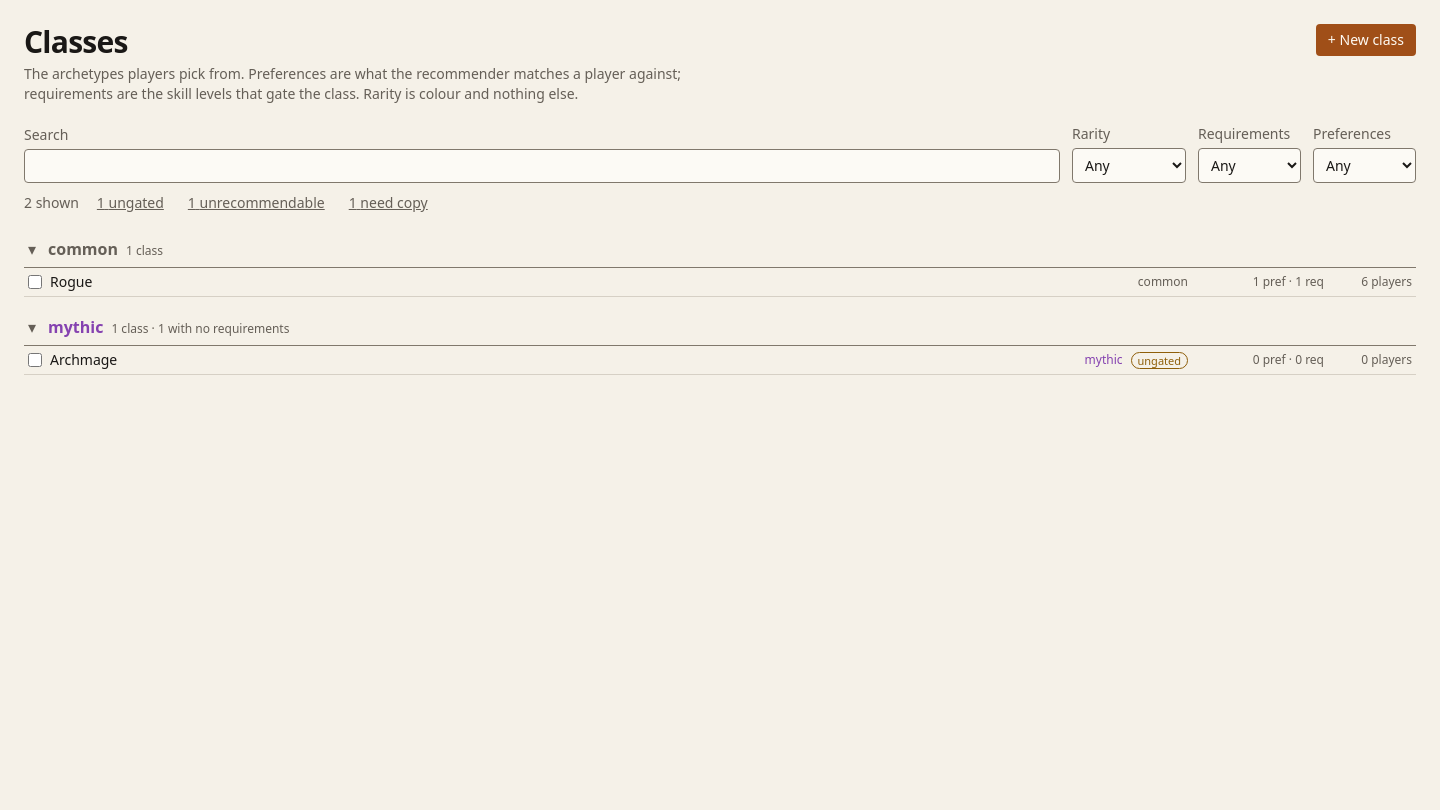
AdminClassesPage › refuses to delete a class players are wearing
This screenshot has width=1440, height=810.
Click the button "Rogue": x=71, y=282 [50,272,1130,292]
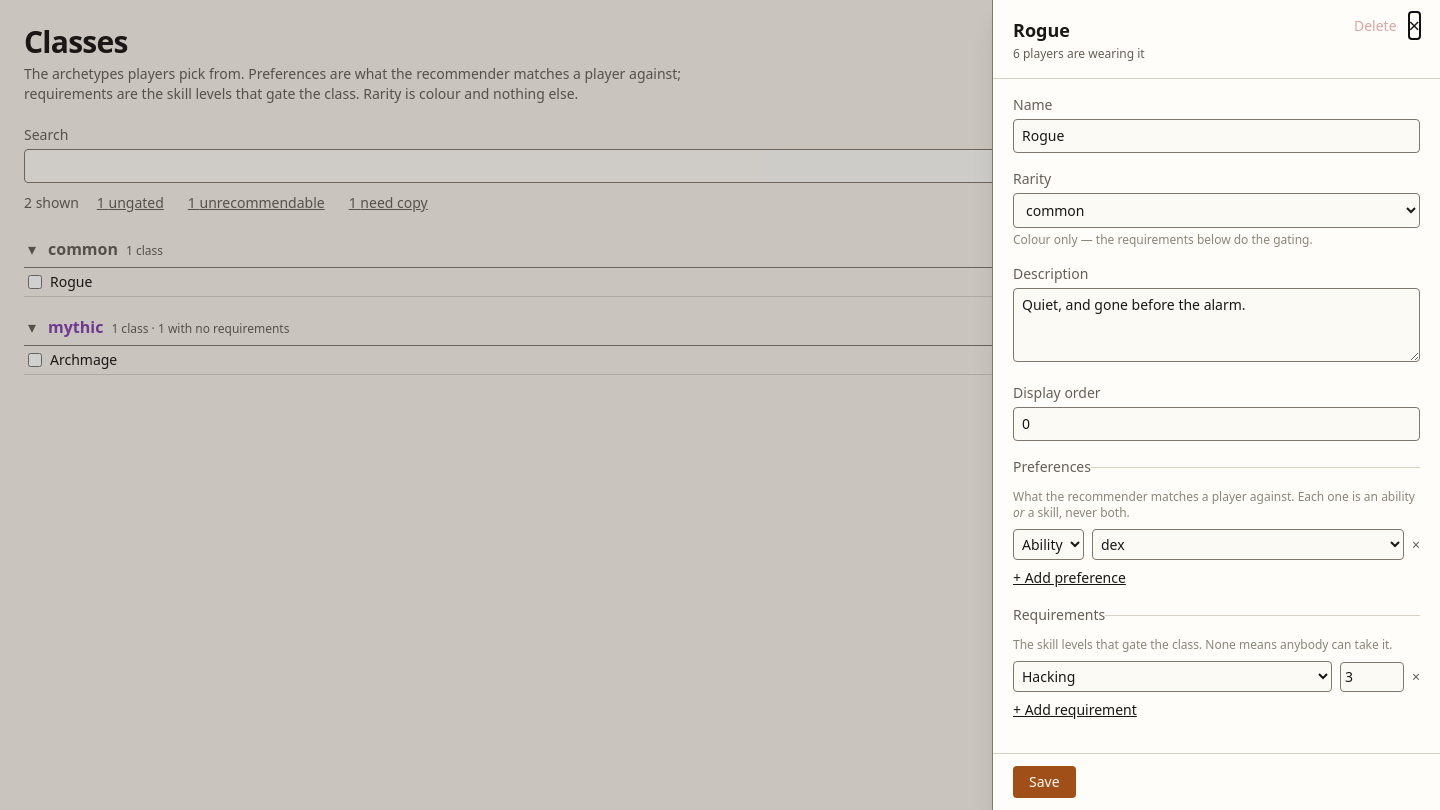
Expected: the button "Delete" is disabled, [1354,16,1397,36]
